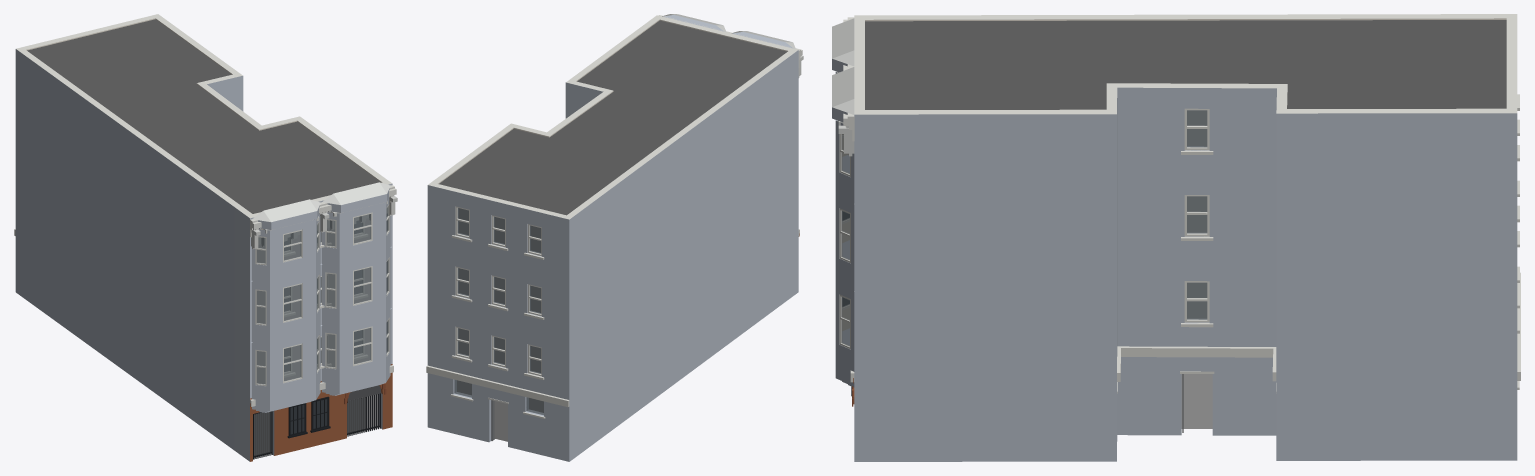
File: exterior.glb
3 views of the same model, side by side, from view 1: azimuth 30°, elevation 25°; view 2: azimuth 150°, elevation 25°; view 3: azimuth 270°, elevation 25° (orthographic). The views are drawn at different scales.
Parts seen in each view (by area): view 1: shell, roof, bay-windows, bay-glazing, shadow-proxy, storefront, bay-windows-crown, shopbays-0, front-dressing-r4, trim, glazing, shopbays-glass-0 (+1 smaller); view 2: shell, roof, glazing, shadow-proxy, trim, frames, bay-windows; view 3: shell, roof, bay-windows, shadow-proxy, trim, glazing, bay-windows-crown, bay-glazing, frames.
Part boxes in pixels (x1,y1,x2,y2): shell: (15,14,392,461); roof: (27,19,380,213); bay-windows: (252,188,390,411); bay-glazing: (255,204,389,386); shadow-proxy: (254,218,377,455); storefront: (253,393,380,459); bay-windows-crown: (252,182,390,412); shopbays-0: (287,396,330,438); front-dressing-r4: (251,195,397,401); trim: (14,185,396,406); glazing: (284,221,361,371); shopbays-glass-0: (290,399,327,433); shell: (427,15,798,461); roof: (439,20,787,215); glazing: (454,208,543,414); shadow-proxy: (457,208,543,441); trim: (426,15,802,418); frames: (455,206,541,376); bay-windows: (663,15,793,48); shell: (854,14,1517,461); roof: (865,20,1506,109); bay-windows: (832,59,854,385); shadow-proxy: (1181,110,1212,428); trim: (843,17,1520,389); glazing: (1187,110,1207,319); bay-windows-crown: (832,18,854,387); bay-glazing: (836,71,850,349); frames: (1184,108,1209,322).
Bounding box in the file's own units: 7.7 × 12.61 × 22.25.
